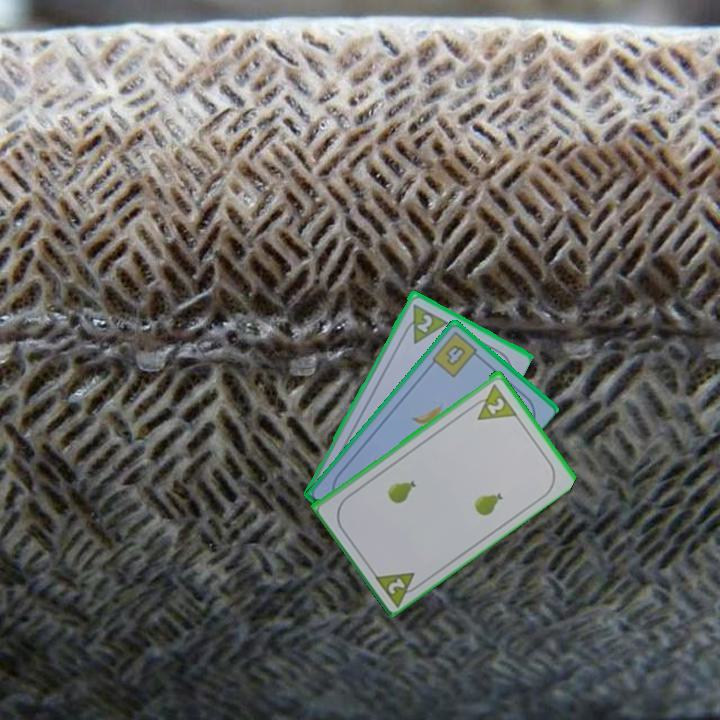2p: (466, 379, 519, 423), (370, 568, 426, 608), (413, 310, 435, 335)
4b: (428, 328, 484, 380)
